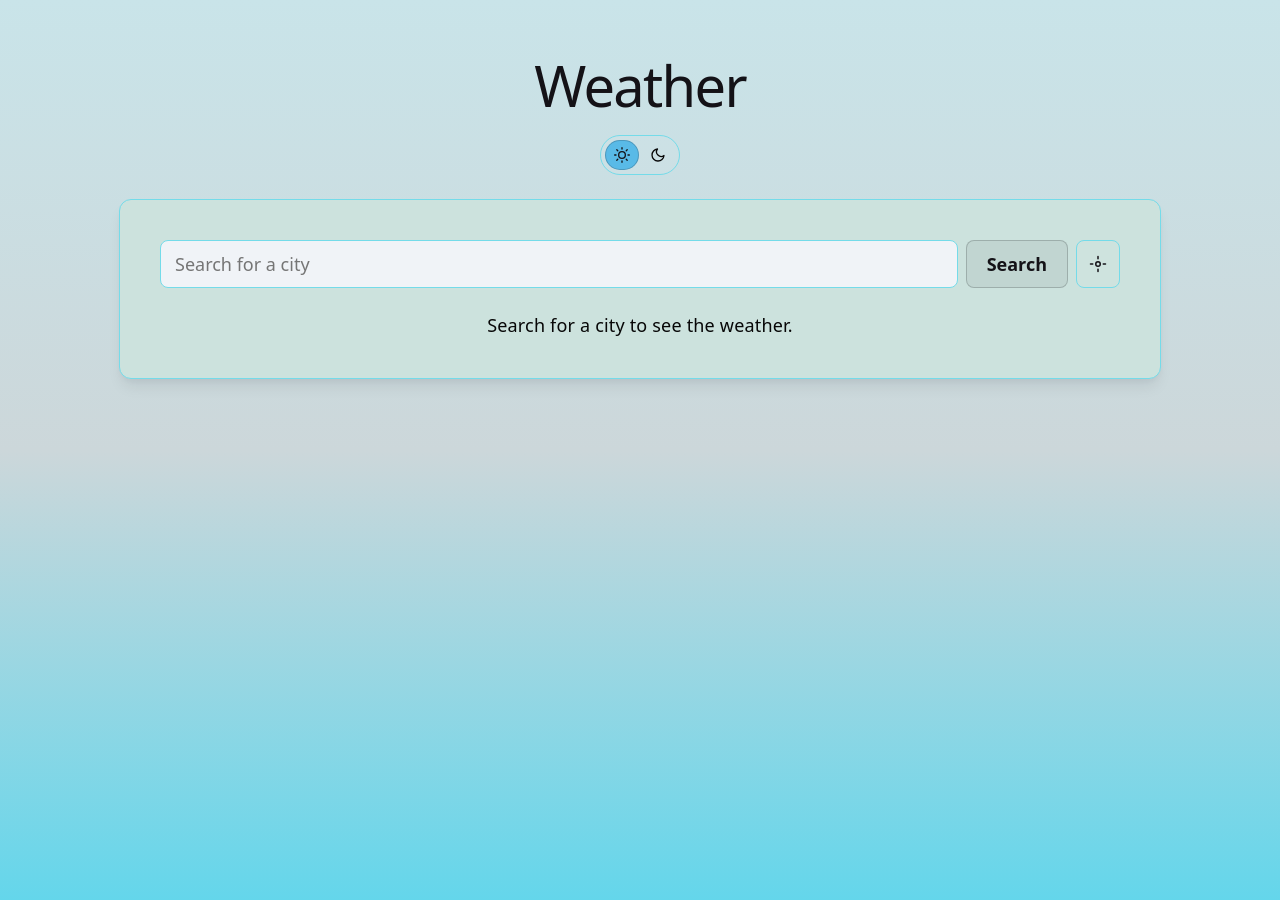
Test: App loading and error screens › replaces loading with weather details on success
This screenshot has width=1280, height=900.
In the field named "City name": (559, 264) x1=160 y1=240 x2=958 y2=288, type "London"
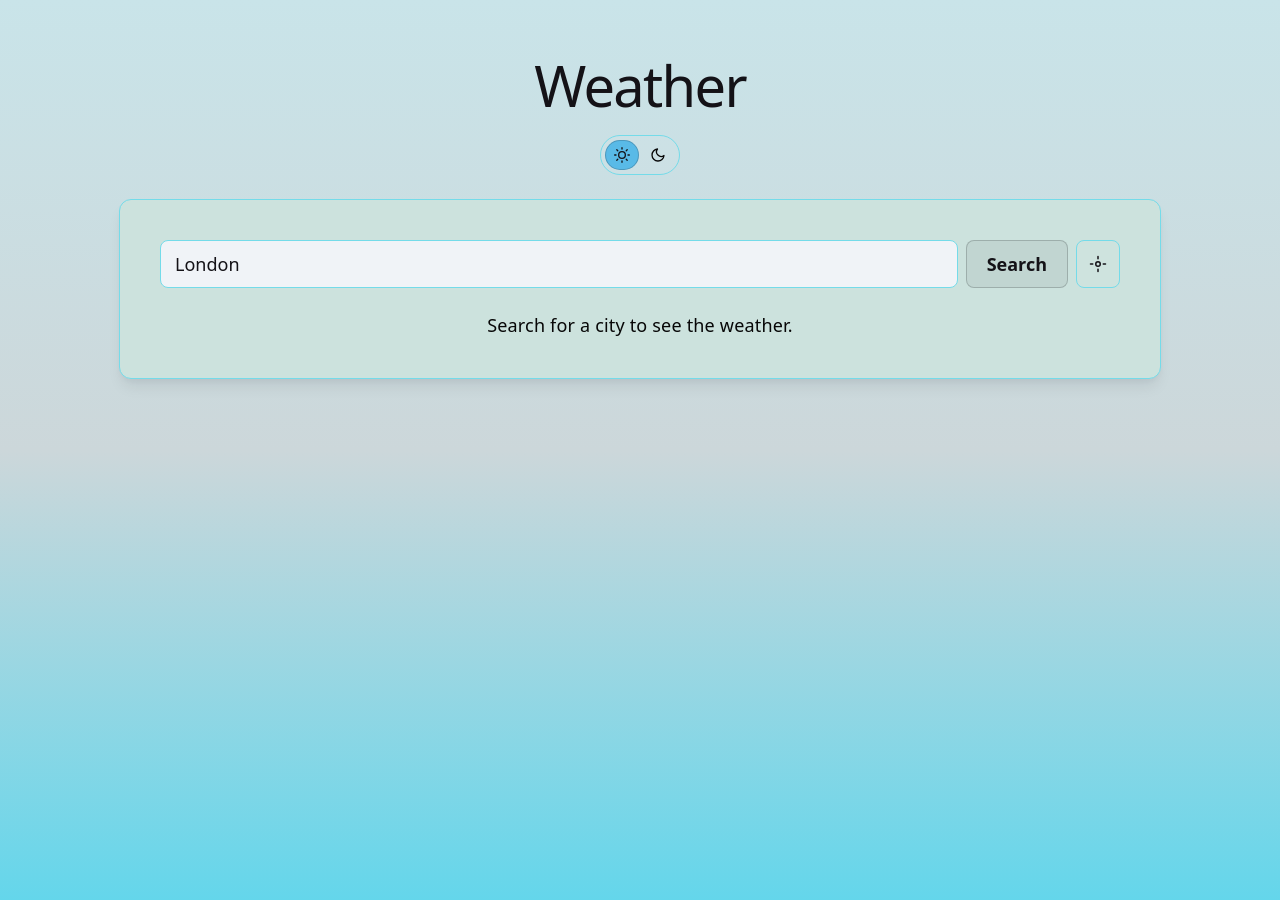
Click the button "Search": (1017, 264) x1=966 y1=240 x2=1068 y2=288
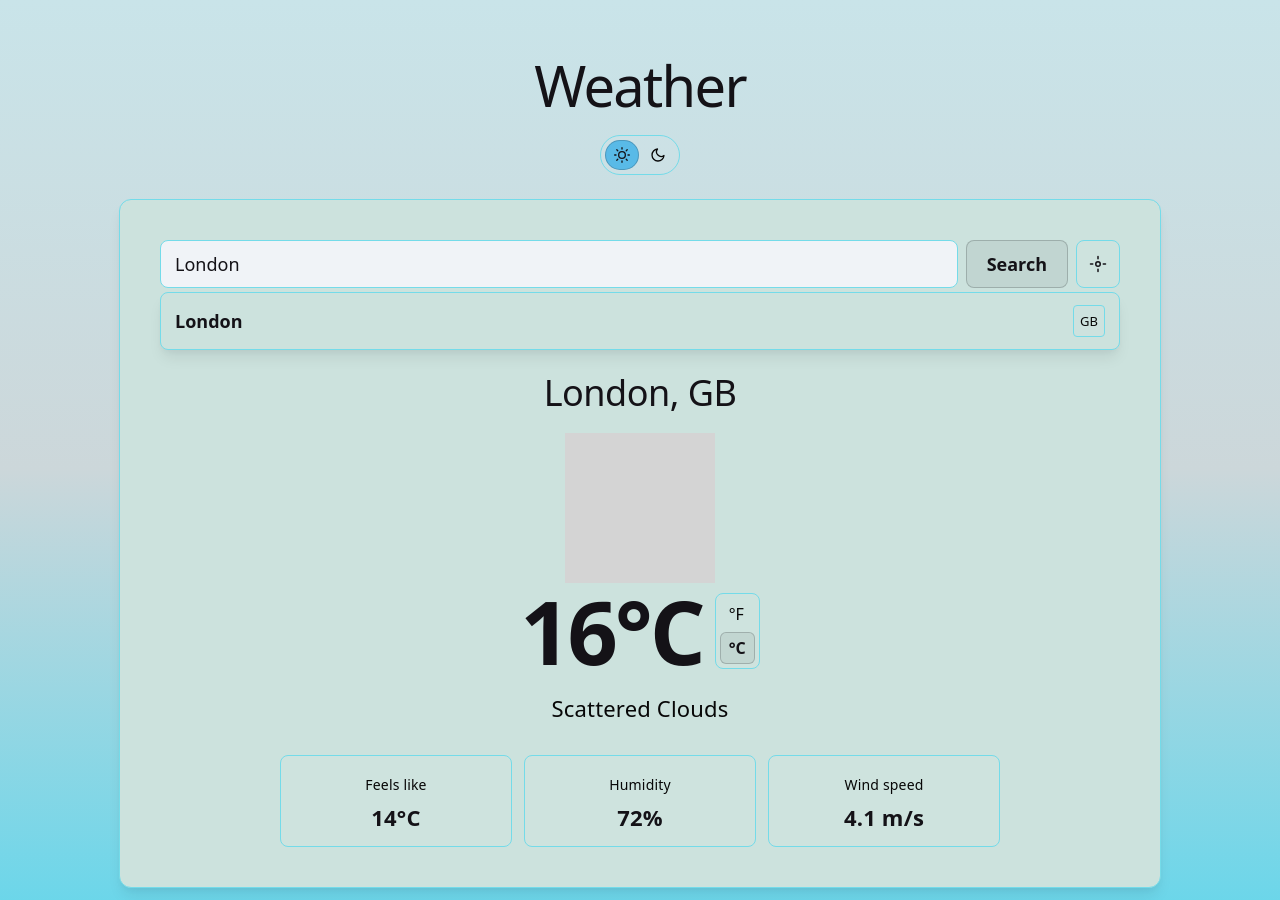
Now the heading "London, GB" is shown, box x1=544 y1=372 x2=736 y2=415
